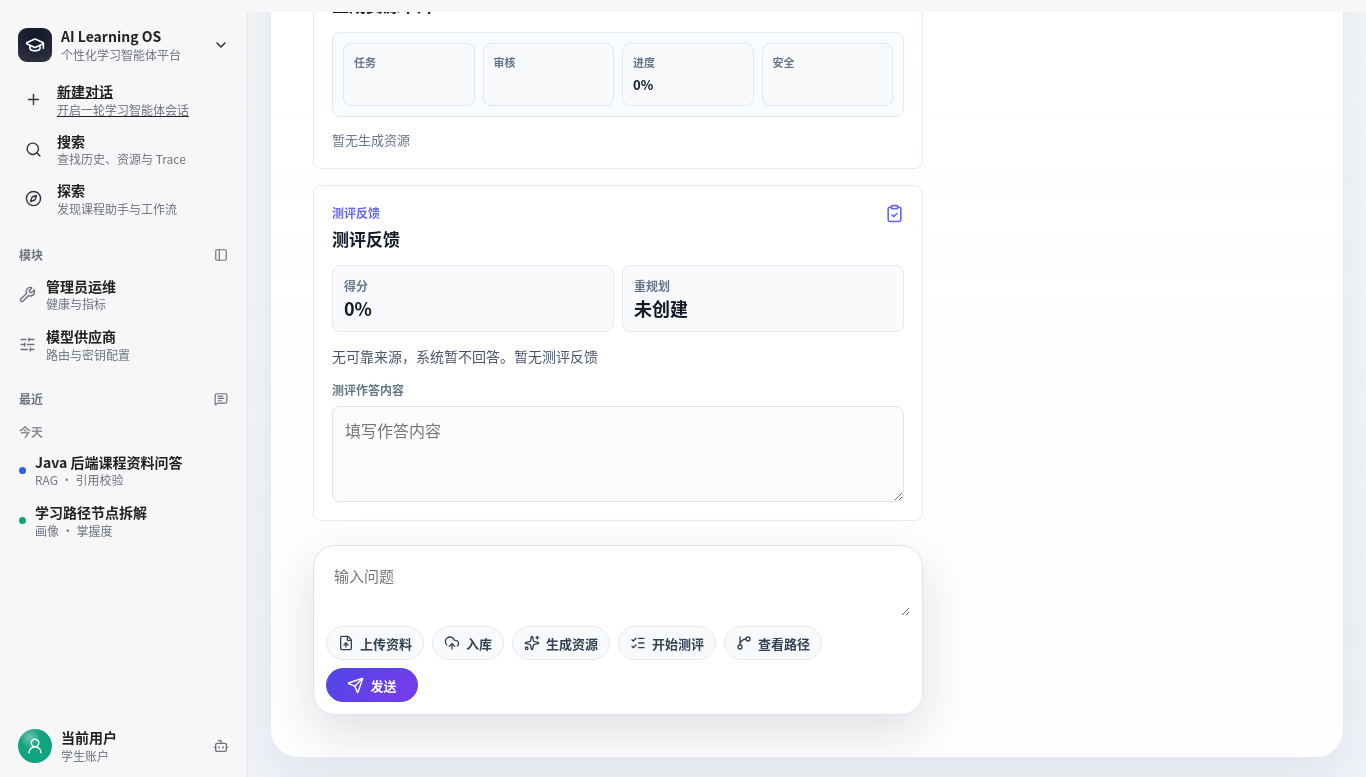
Test: AI Learning OS workbench › uses POST AI QA stream in production without leaking question and kbIds through a URL
(page scrolled)
Type "为什么 SQL JOIN 会产生重复行？" into the text box with test id "rag-question-input" at coordinates (618, 587), box [326, 558, 910, 616]
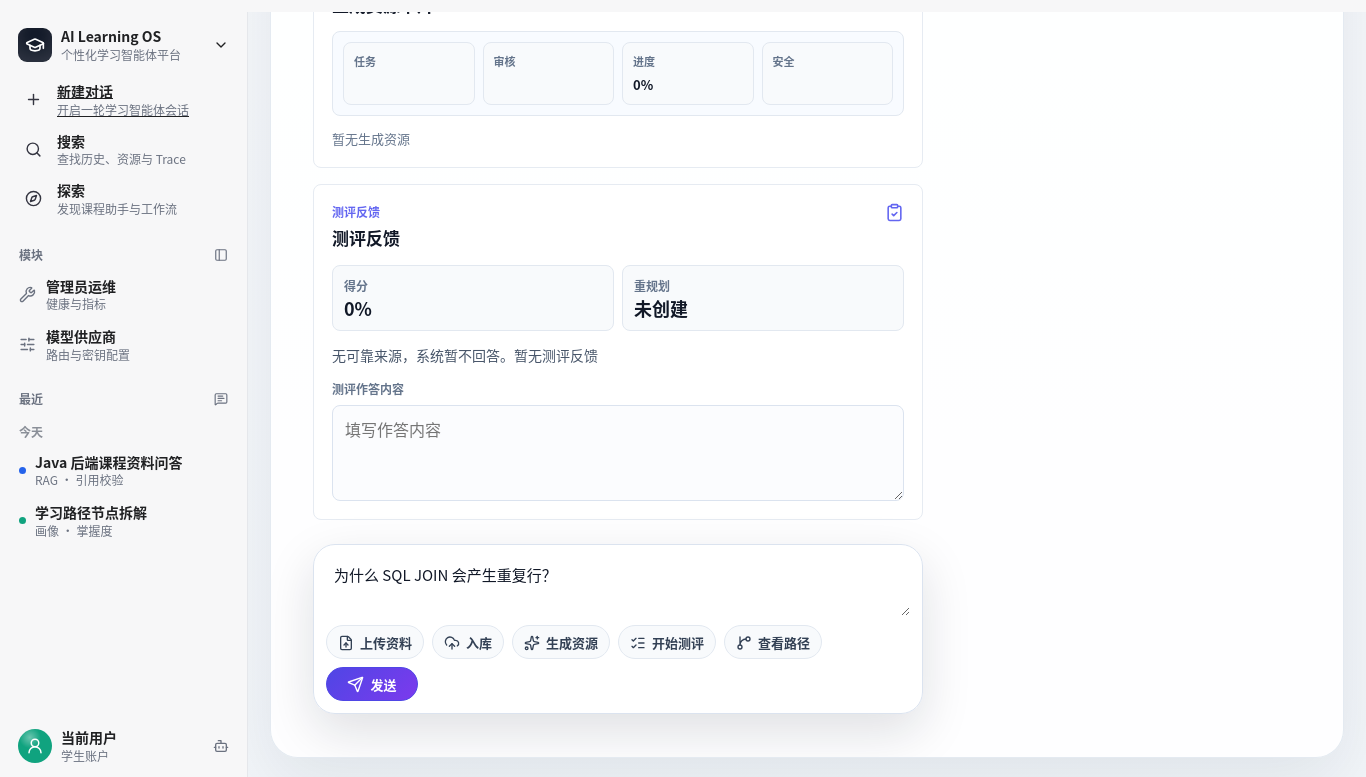
Click the button with test id "ask-rag" at coordinates (372, 685), box [326, 668, 418, 702]
(page scrolled)
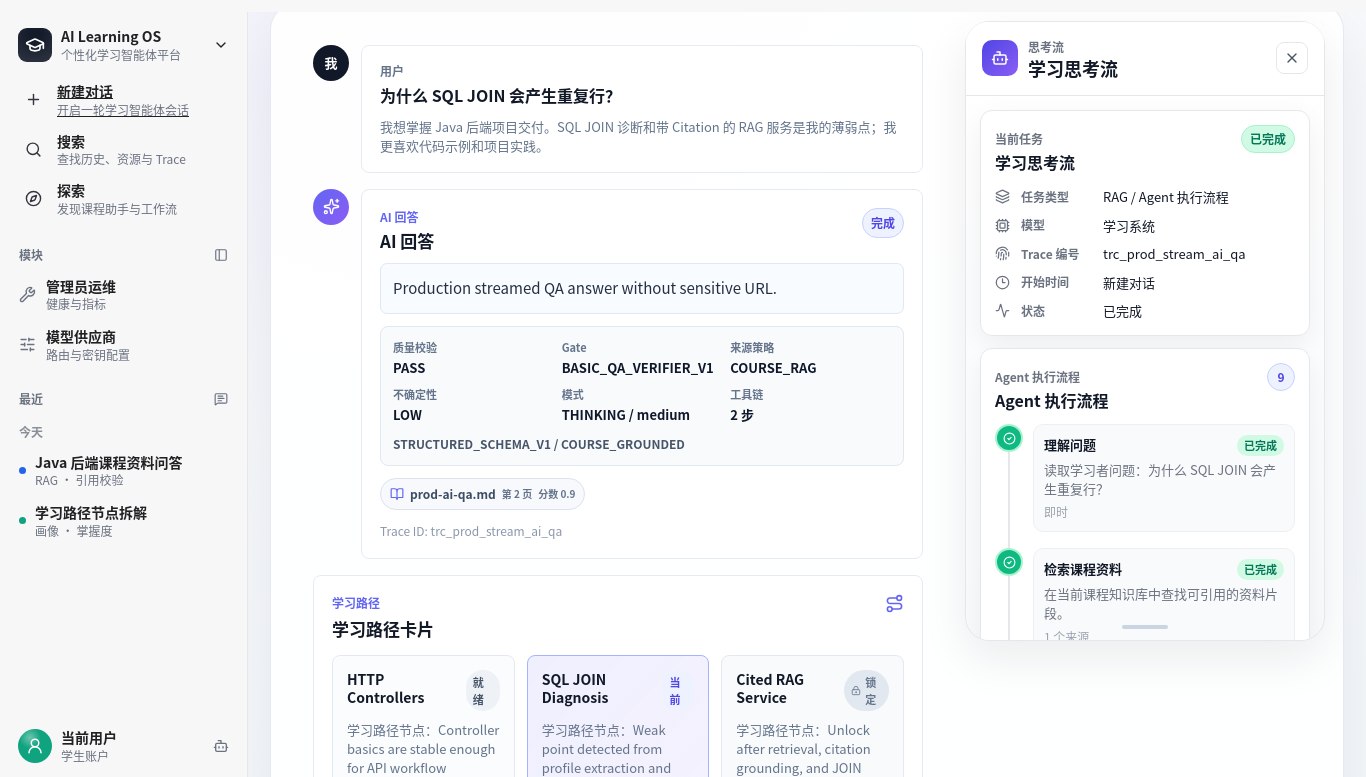
Now the text "Production streamed QA answer without sensitive URL." is shown, box [380, 263, 904, 314]
Now the text "trc_prod_stream_ai_qa" is shown, box [380, 522, 562, 539]
Now the text "prod-ai-qa.md" is shown, box [410, 485, 496, 502]
